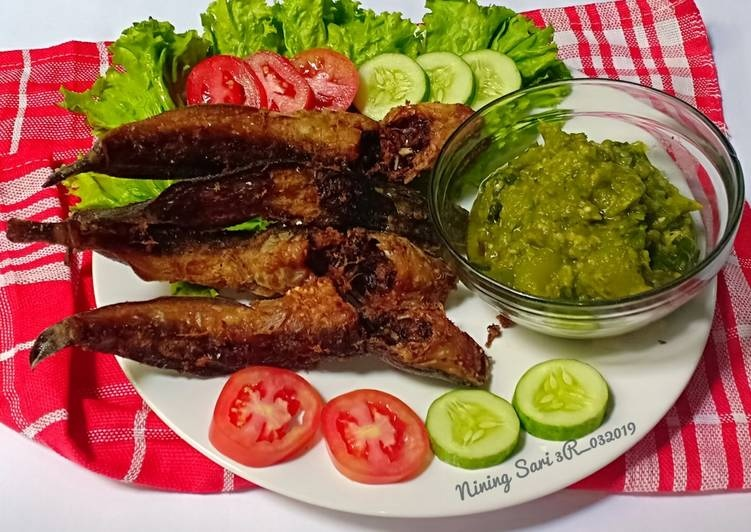pecel_lele: (14, 282, 493, 386)
